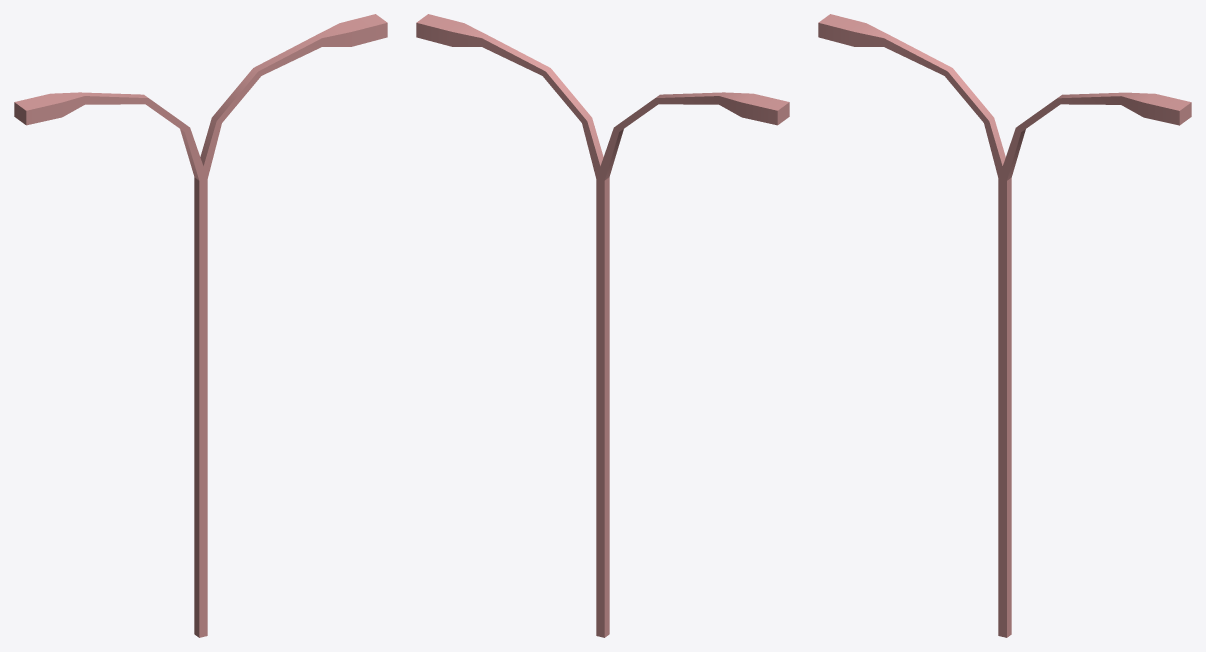
File: LightPole_B_C_COL.fbx
3 renders of one model, left to right at view 1: azimuth 30°, elevation 25°; view 2: azimuth 150°, elevation 25°; view 3: azimuth 330°, elevation 25°, orthographic.
Visible parts, largest first — view 1: LightPole_B_C_COL; view 2: LightPole_B_C_COL; view 3: LightPole_B_C_COL.
Boxes of the visible parts, bbox=[...] form: LightPole_B_C_COL: bbox=[14, 14, 387, 637]; LightPole_B_C_COL: bbox=[416, 14, 789, 637]; LightPole_B_C_COL: bbox=[818, 14, 1191, 637].
Size of the model in its own units: 593 by 898 by 34.15.
